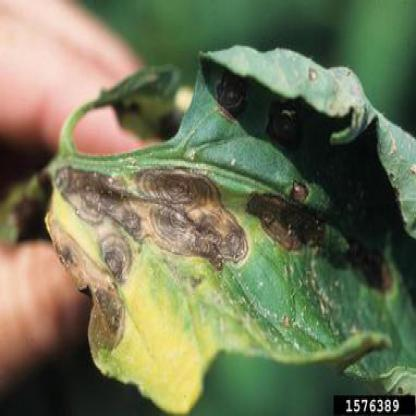tomato early blight leaf: (48, 46, 415, 392)
